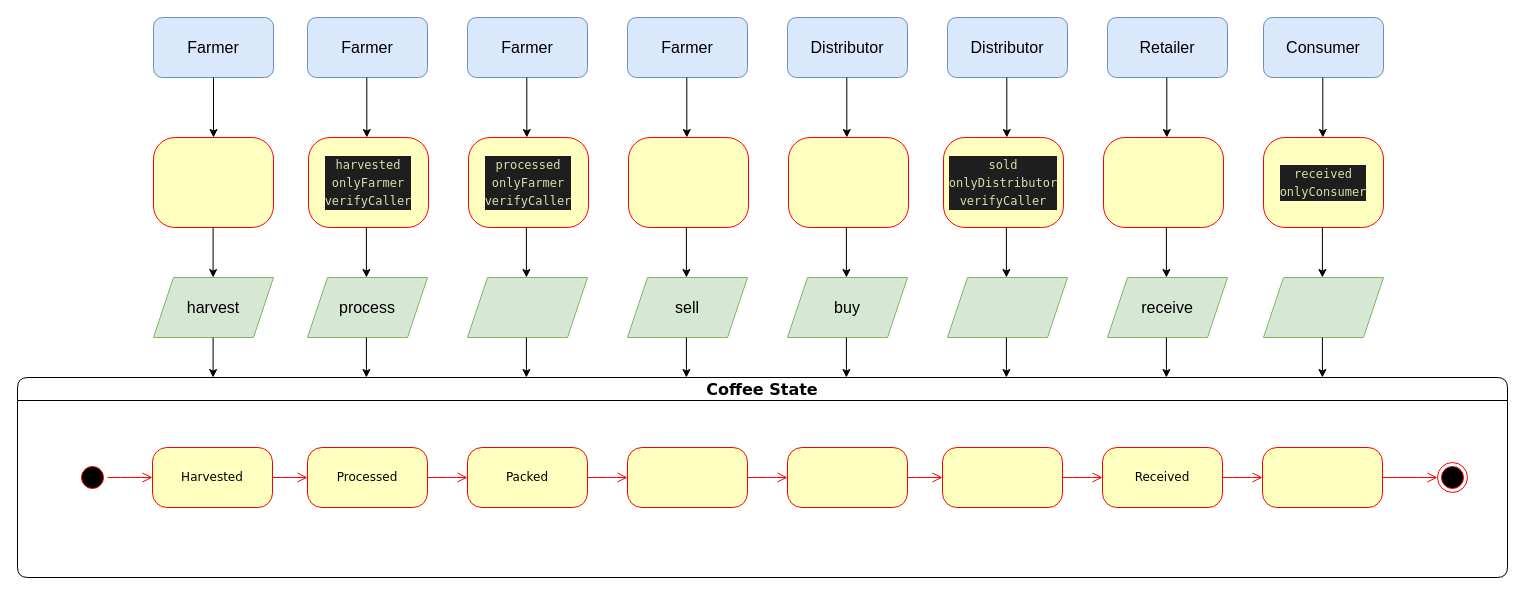
The diagram is 1525 pixels wide and 595 high, and some of its shapes have lost their labels. The shapes that lost their labels are listed below. From the top down, each one's centre as x and y in pixels, then its label:
[213,182]: onlyFarmer
[688,182]: packed onlyFarmer verifyCaller
[848,182]: forSale onlyDistributor paidEnough
[1163,182]: shipped onlyRetailer
[527,307]: pack
[1007,307]: ship
[1323,307]: purchase
[687,477]: For Sale
[847,477]: Sold
[1002,477]: Shipped
[1322,477]: Purchased
